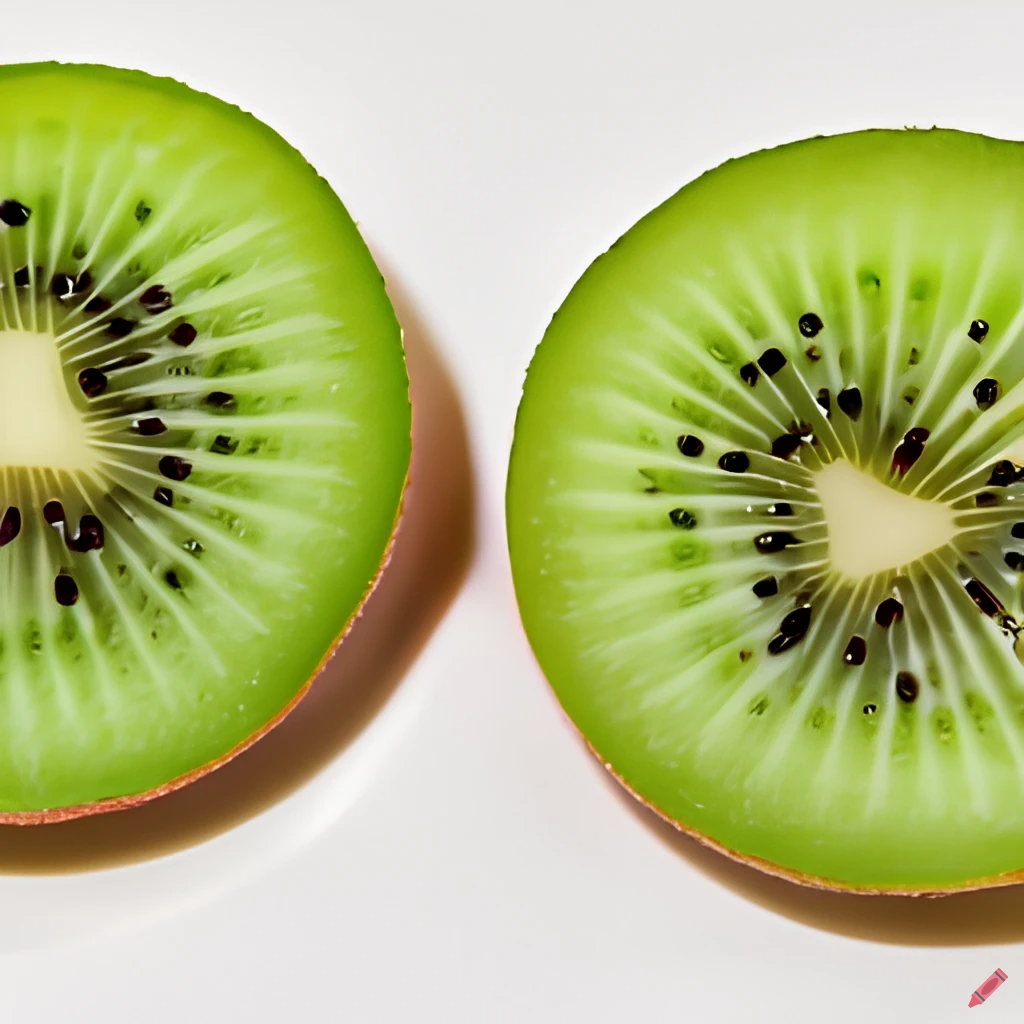Kiwi: (483, 96, 1024, 942)
